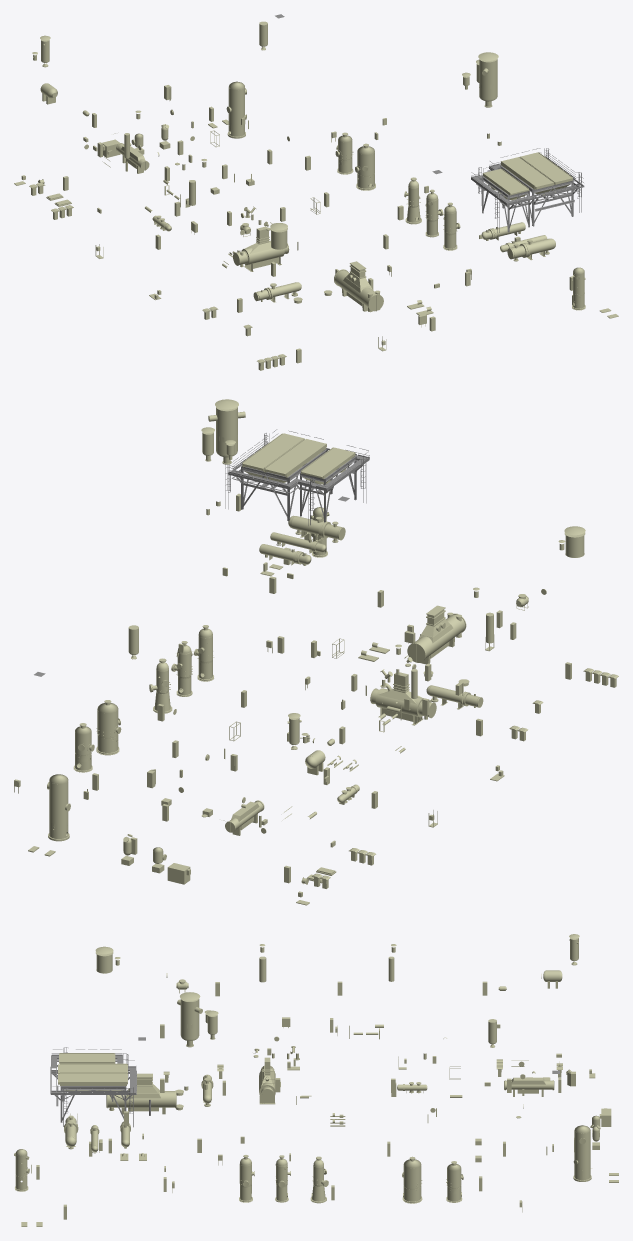
The picture shows the model from 3 angles, top to bottom: view 1: azimuth 30°, elevation 25°; view 2: azimuth 150°, elevation 25°; view 3: azimuth 270°, elevation 25°; orthographic projection. The views are drawn at different scales.
Size of the model in its own units: 59.16 by 36.62 by 94.27.
